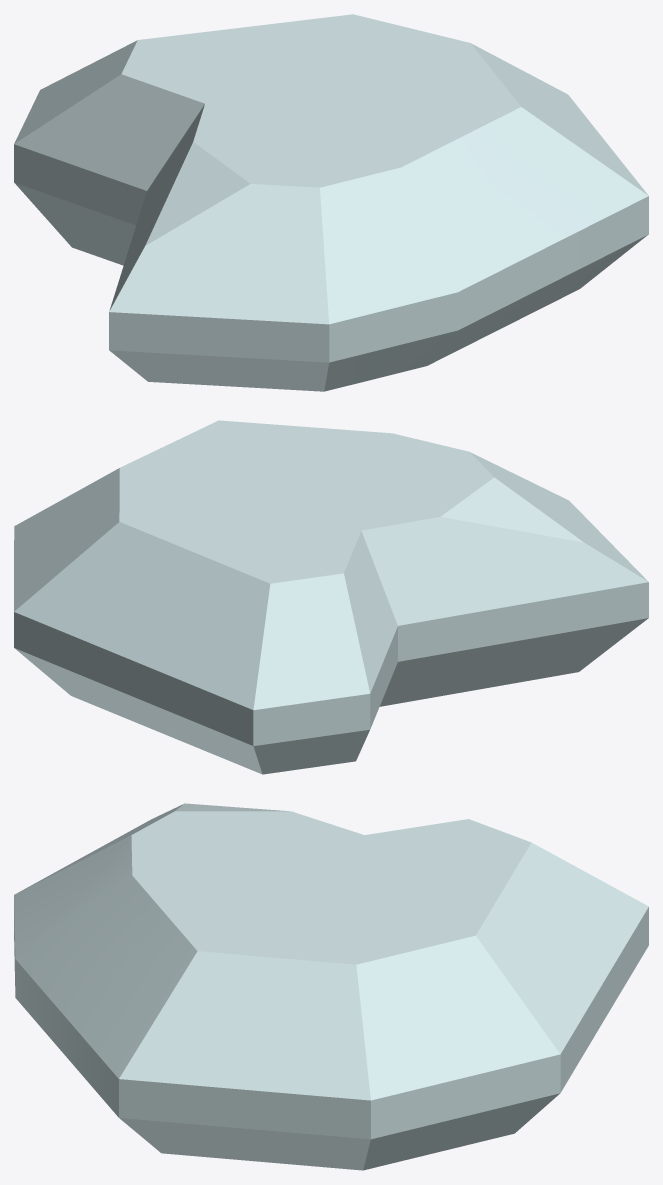
File: stone_large3.glb
3 renders of one model, top to bottom at view 1: azimuth 30°, elevation 25°; view 2: azimuth 150°, elevation 25°; view 3: azimuth 270°, elevation 25°, orthographic. The views are drawn at different scales.
Parts seen in each view (by area): view 1: stone_large3; view 2: stone_large3; view 3: stone_large3.
Boxes of the visible parts, box(x1,y1,x2,y2) form: stone_large3: box(14, 14, 648, 391); stone_large3: box(14, 420, 648, 774); stone_large3: box(14, 803, 648, 1170).
Bounding box in the file's own units: 1.06 × 0.3211 × 1.02.
